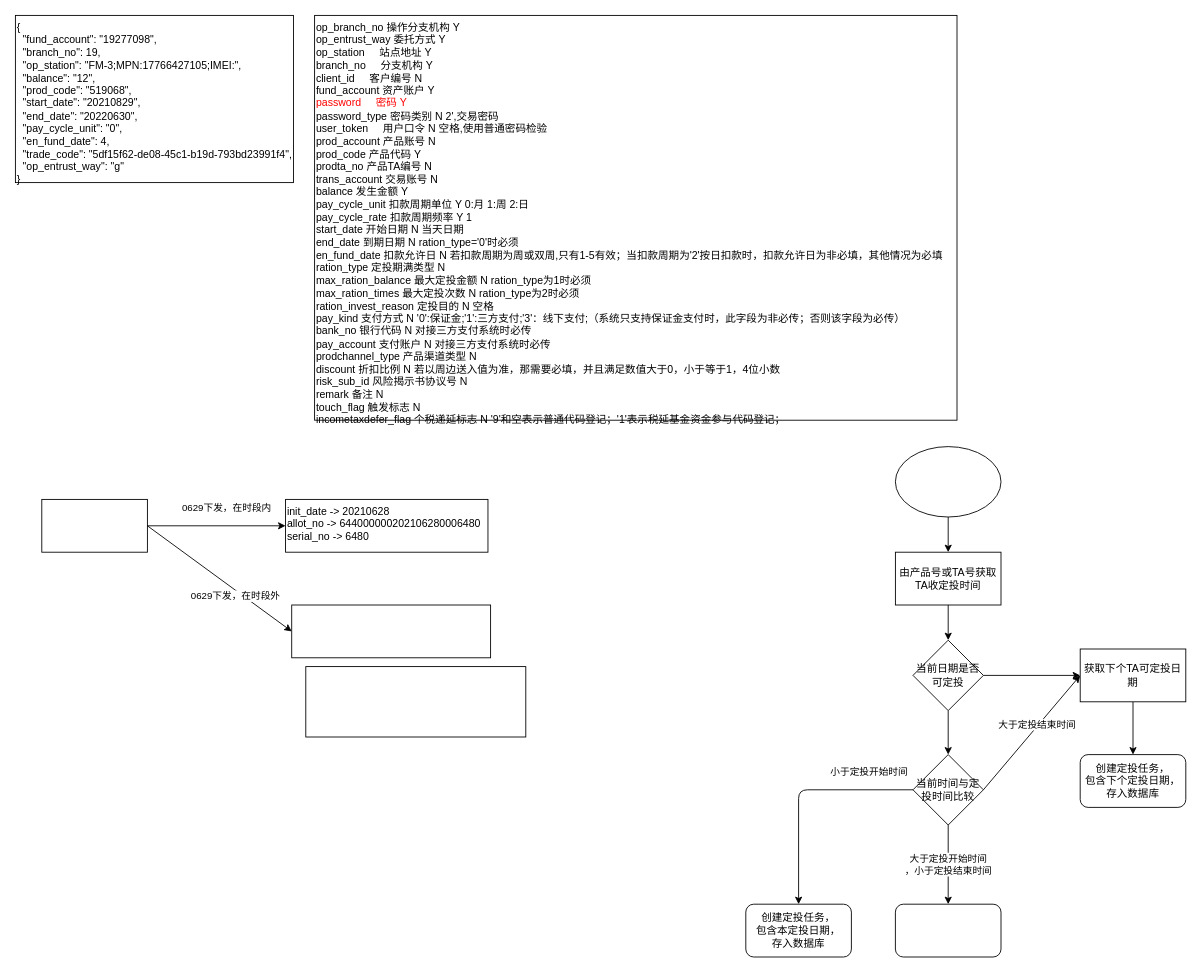
The diagram is 1201 pixels wide and 972 high, and some of its shapes have lost their labels. The box of each missing label's shape, as (x1, y1, x2, y2) in pixels:
fixedInvestNew: (41, 499, 147, 552)
fixedInvestNewV2: (895, 446, 1001, 517)
下发337650请求: (895, 903, 1001, 957)
调用createFiaSignTask 延迟提交: (305, 666, 526, 737)
